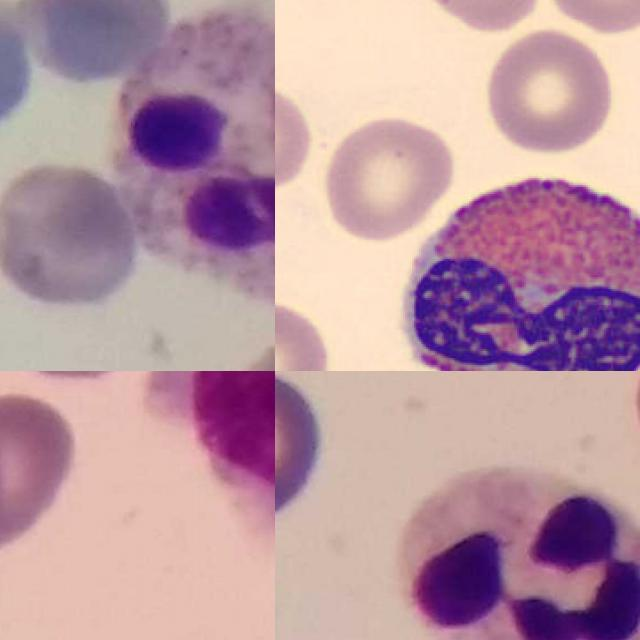Eosinophil: (383, 158, 640, 371)
Monocyte: (181, 371, 275, 496)
Neutrophil: (111, 6, 275, 301), (398, 463, 640, 640)
RBC: (318, 111, 460, 243), (482, 26, 619, 157), (275, 76, 318, 196), (408, 0, 547, 35), (275, 292, 334, 371), (542, 0, 640, 37)
